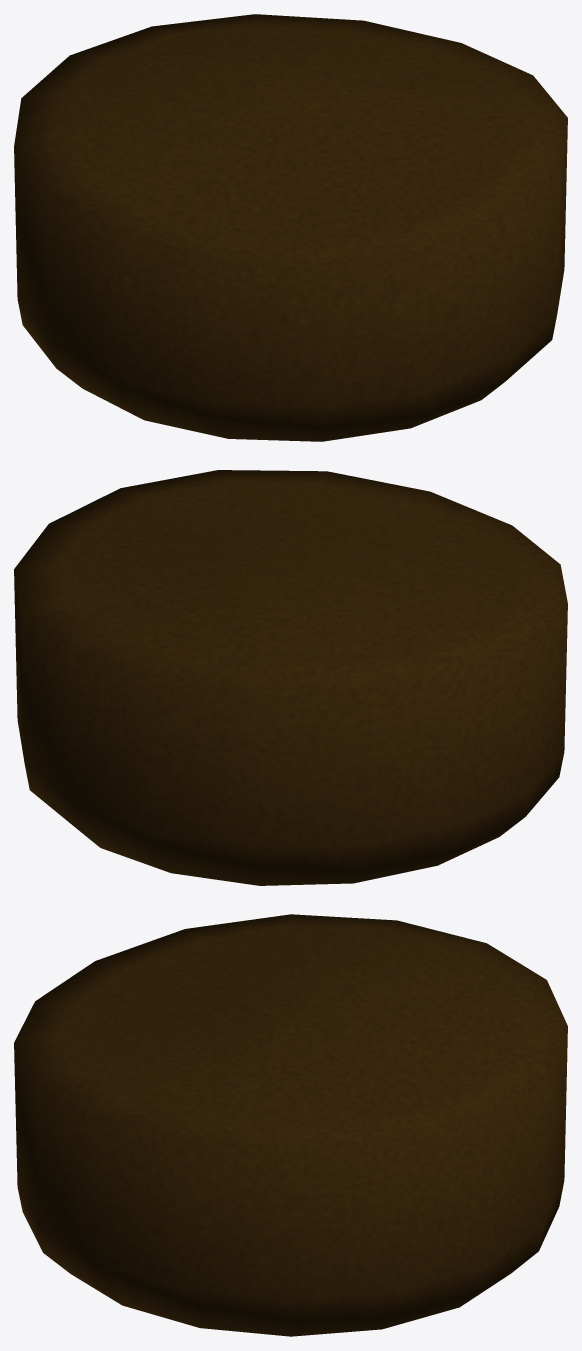
Rendered from Coffee(mesh).fbx.
3 views of the same model, one above another, from view 1: azimuth 30°, elevation 25°; view 2: azimuth 150°, elevation 25°; view 3: azimuth 270°, elevation 25° (orthographic).
Parts seen in each view (by area): view 1: Coffee(mesh); view 2: Coffee(mesh); view 3: Coffee(mesh).
Part boxes in pixels (x1,y1,x2,y2): Coffee(mesh): (14, 14, 567, 441); Coffee(mesh): (14, 470, 567, 885); Coffee(mesh): (14, 914, 567, 1336).
Bounding box in the file's own units: 12.99 × 6.18 × 12.93.
